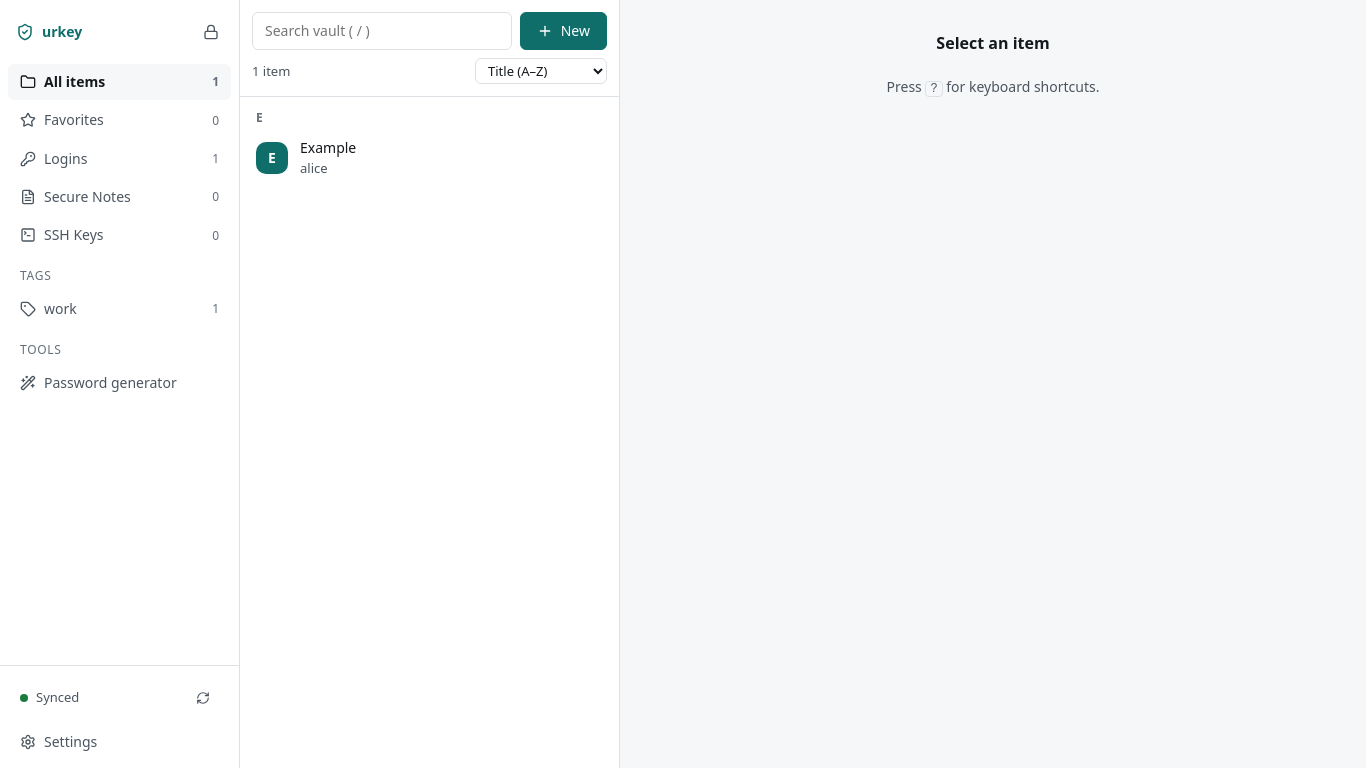
Test: vault › lists items and masks the password until revealed
The width and height of the screenshot is (1366, 768).
Step 1. Click the option "E Example alice" → [306, 158], box [256,138,356,177]
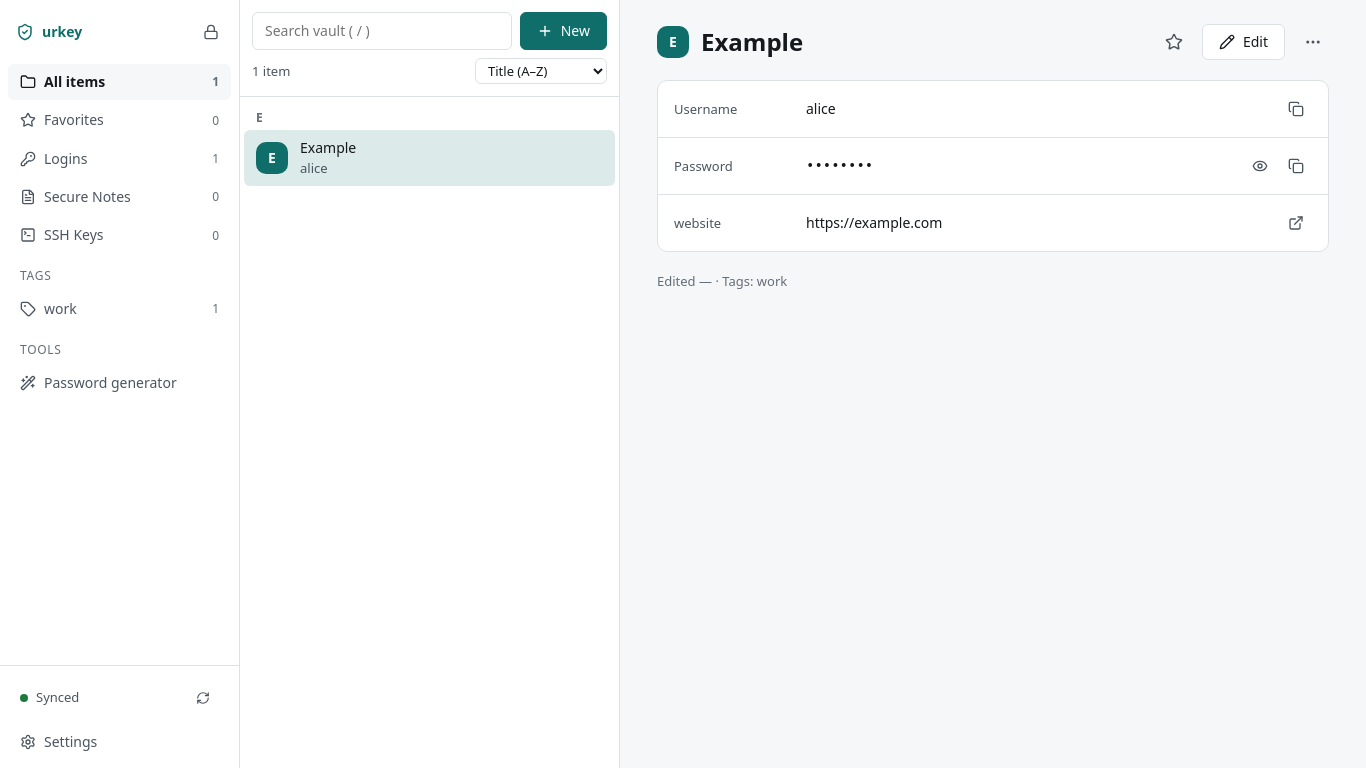
Expected: the heading "Example" is shown, [701,25,803,58]
Expected: the text named "Password, hidden" reads "••••••••", [806,158,873,174]
Step 2. Click the button named "Reveal password" → [1260, 166], box [1244,150,1276,182]
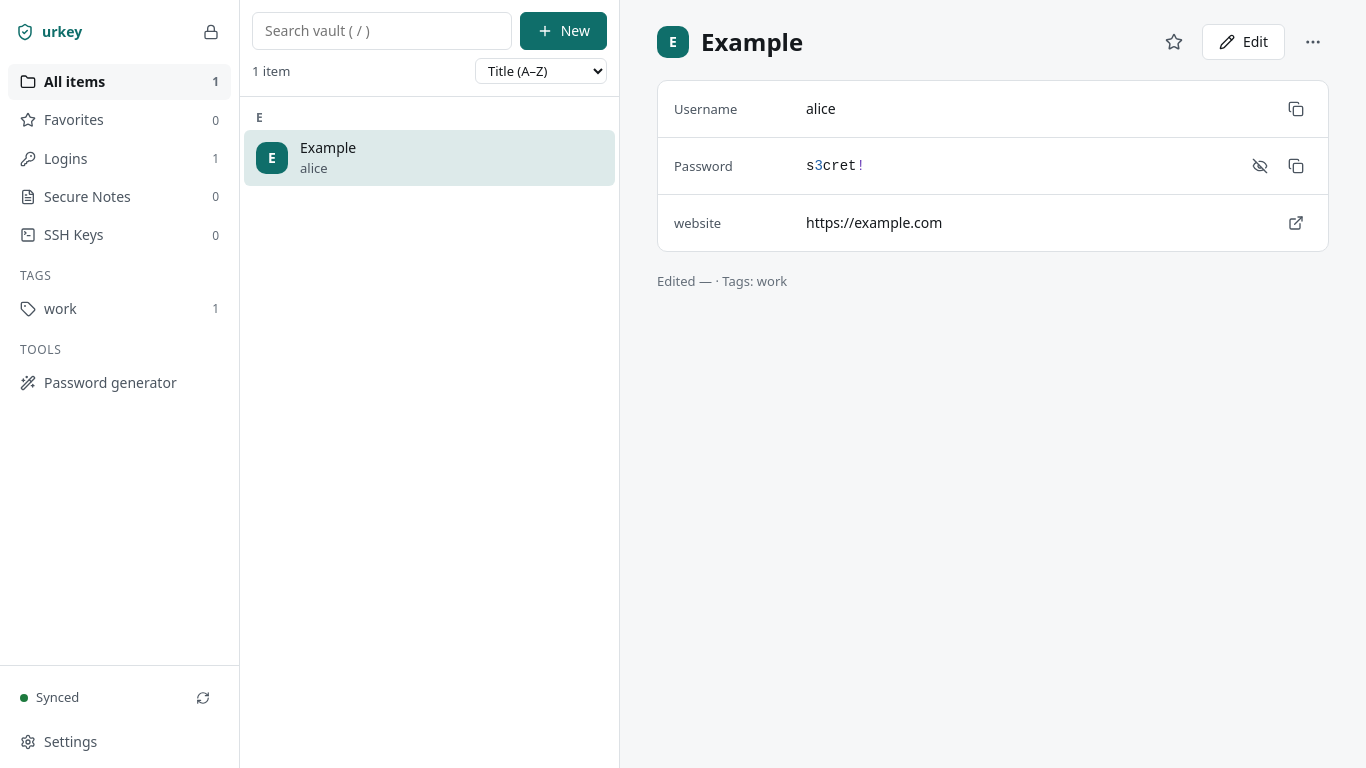
Expected: the element showing "s3cret!" is shown, [806,158,865,174]
